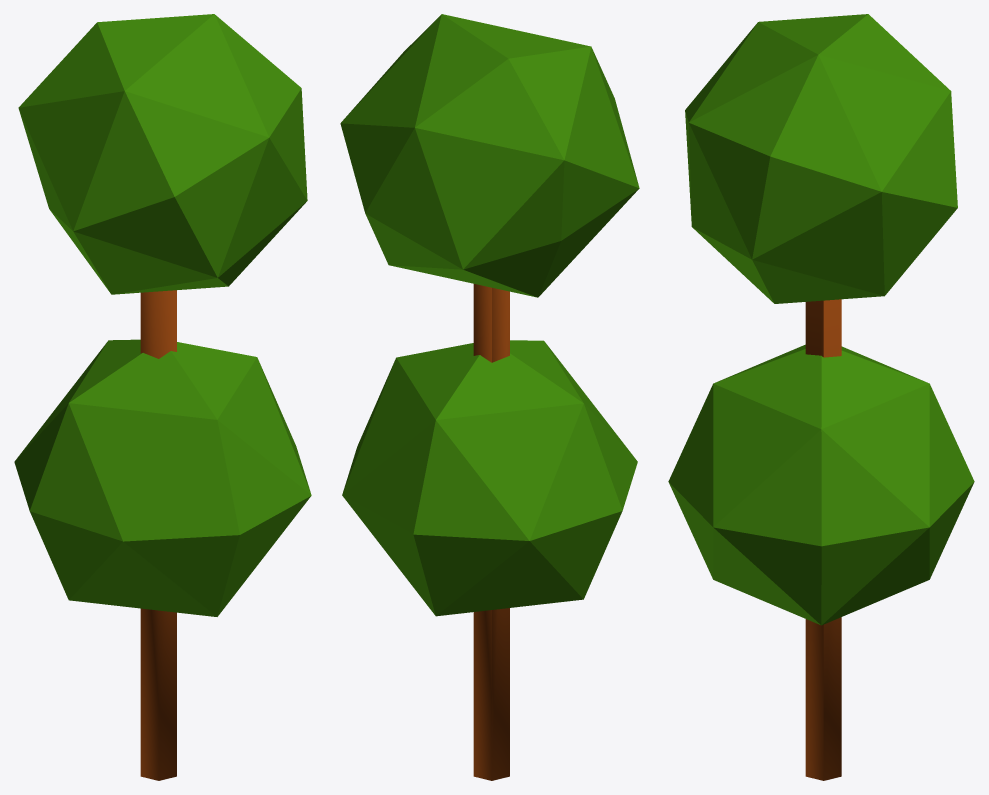
Rendered from Bush_g_01.fbx.
3 renders of one model, left to right at view 1: azimuth 30°, elevation 25°; view 2: azimuth 150°, elevation 25°; view 3: azimuth 270°, elevation 25°, orthographic.
Visible parts, largest first — view 1: Bush_g_01_LOD0; view 2: Bush_g_01_LOD0; view 3: Bush_g_01_LOD0.
Boxes of the visible parts, box(x1,y1,x2,y2) form: Bush_g_01_LOD0: box(14, 14, 311, 780); Bush_g_01_LOD0: box(340, 14, 639, 780); Bush_g_01_LOD0: box(668, 14, 974, 780).
Size of what is drawn, in the model's own units: 18.72 by 50.13 by 18.72.
